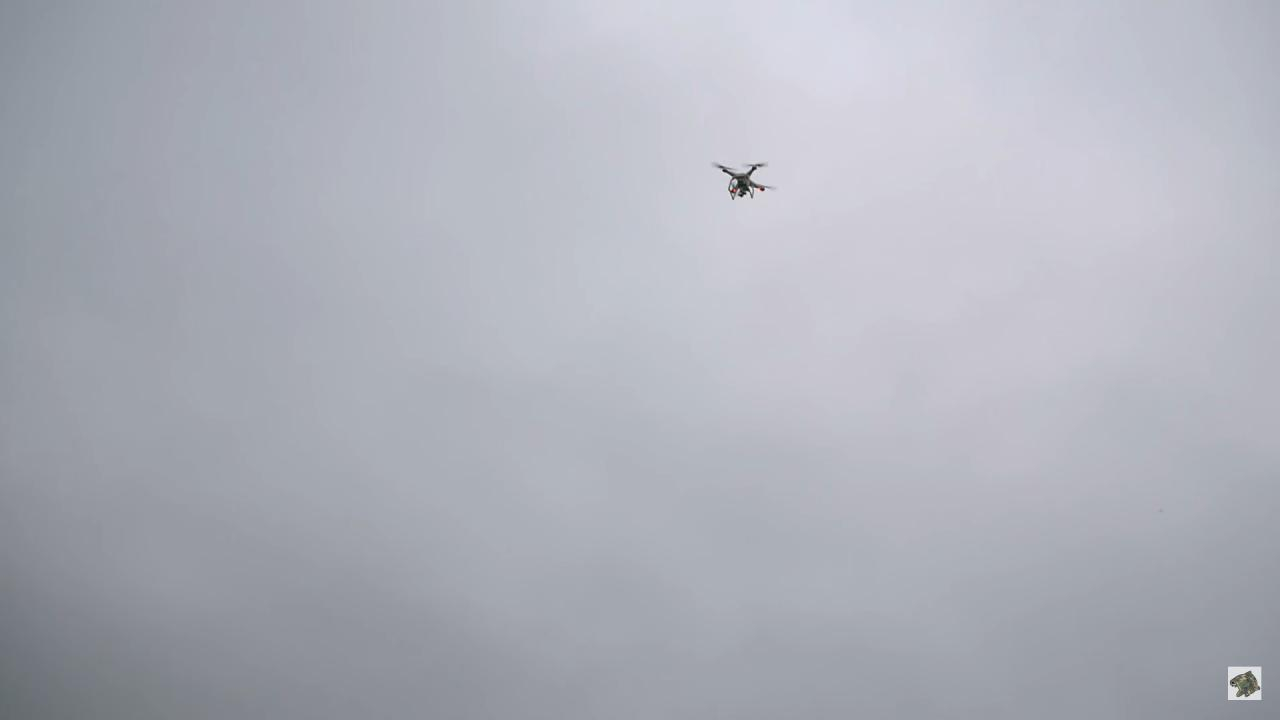Drone: (704, 150, 781, 212)
